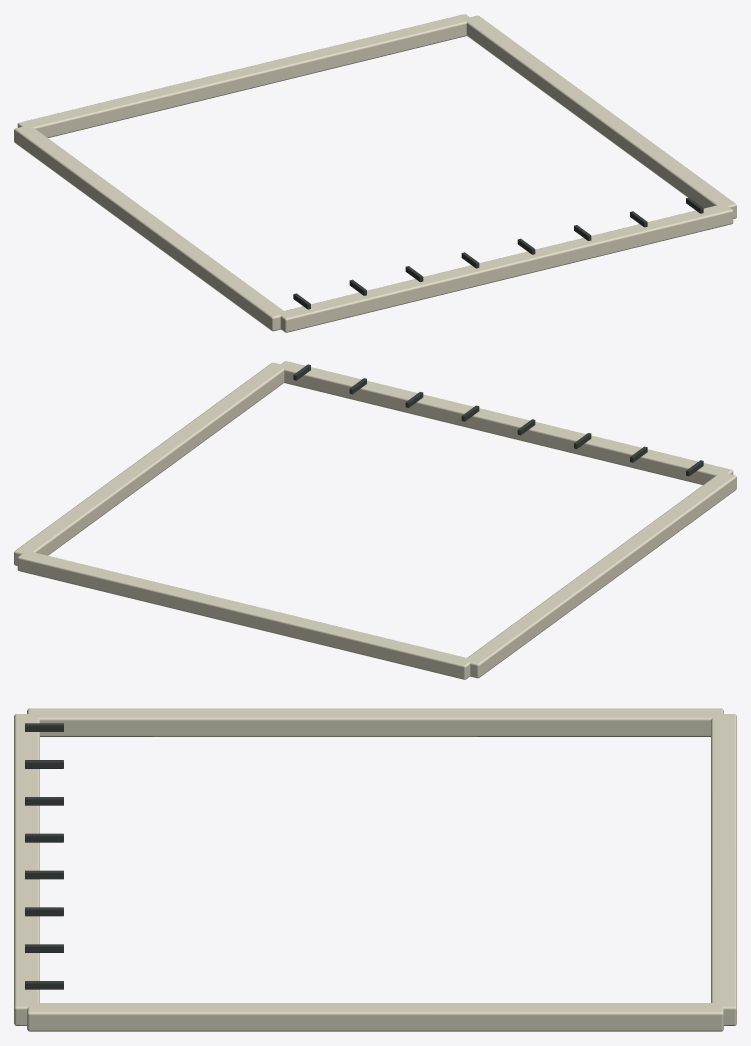
Rendered from prehistoric-expedition-sites-track-measuring-frame-28441114__26123.glb.
3 views of the same model, one above another, from view 1: azimuth 30°, elevation 25°; view 2: azimuth 150°, elevation 25°; view 3: azimuth 270°, elevation 25° (orthographic). The views are drawn at different scales.
Visible parts, largest first — view 1: track-measuring-frame; view 2: track-measuring-frame; view 3: track-measuring-frame.
Part boxes in pixels (<box>): track-measuring-frame: <box>14,14,736,332</box>; track-measuring-frame: <box>14,361,736,679</box>; track-measuring-frame: <box>14,708,736,1031</box>.
Size of the model in its own units: 0.83 by 0.034 by 0.83.
